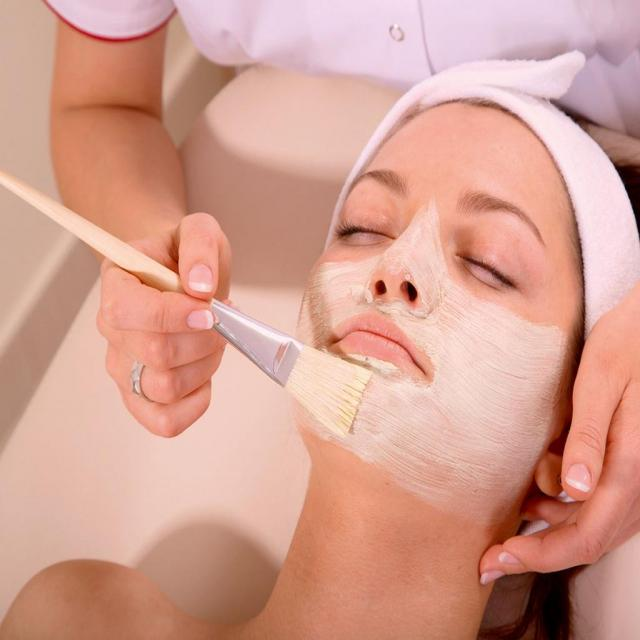nomask: (339, 110, 556, 412)
